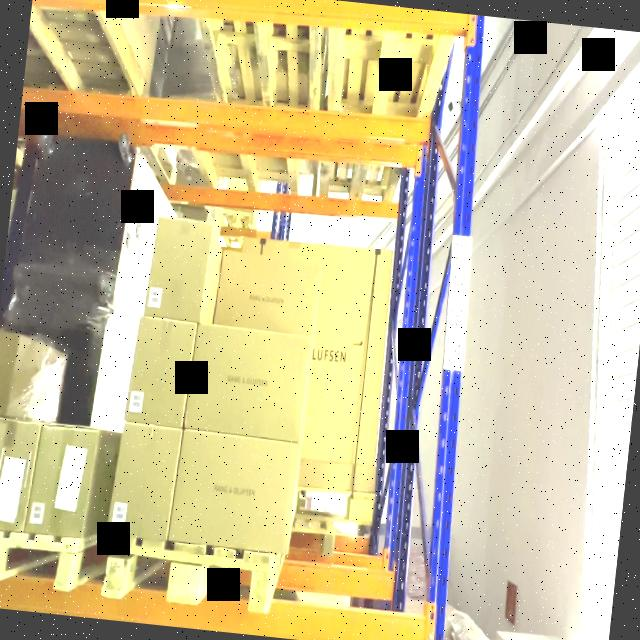box: (166, 432, 293, 552), (184, 321, 308, 441), (212, 248, 318, 335), (108, 424, 180, 540), (124, 320, 196, 424), (145, 217, 211, 320)
